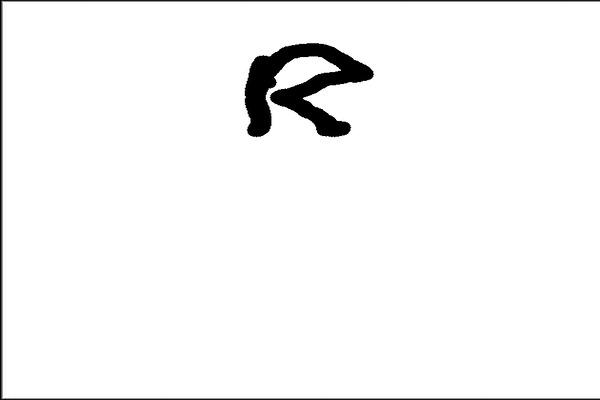R: (238, 32, 379, 142)
